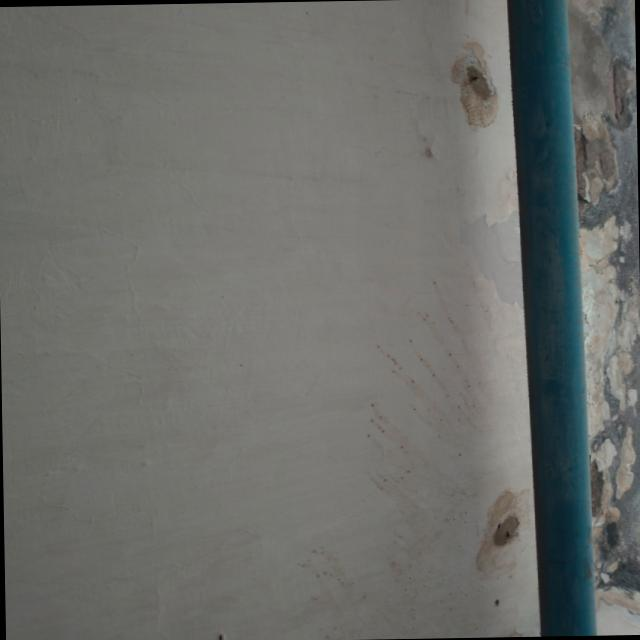gas: (508, 0, 589, 636)
